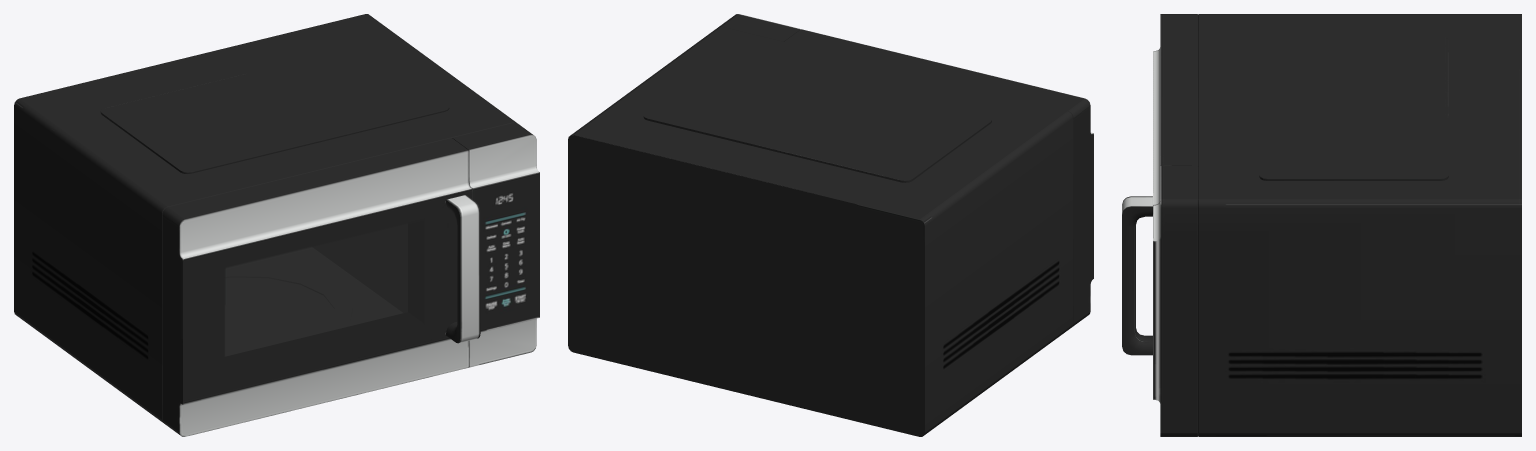
The model's file is oven.glb.
3 views of the same model, side by side, from view 1: azimuth 30°, elevation 25°; view 2: azimuth 150°, elevation 25°; view 3: azimuth 270°, elevation 25° (orthographic). The views are drawn at different scales.
Parts seen in each view (by area): view 1: Cube.028, Cube.030, Cube.029; view 2: Cube.028, Cube.030; view 3: Cube.028, Cube.030, Cube.029.
Boxes of the visible parts, left/top/right/bottom form: Cube.028: left=14, top=14, right=539, bottom=422; Cube.030: left=162, top=138, right=472, bottom=436; Cube.029: left=446, top=195, right=480, bottom=343; Cube.028: left=568, top=14, right=1072, bottom=436; Cube.030: left=784, top=29, right=1093, bottom=326; Cube.028: left=1153, top=14, right=1521, bottom=436; Cube.030: left=1153, top=14, right=1198, bottom=205; Cube.029: left=1122, top=196, right=1152, bottom=355.
Size of the model in its own units: 55 by 34.23 by 48.84.
1 material, 1 textured.
